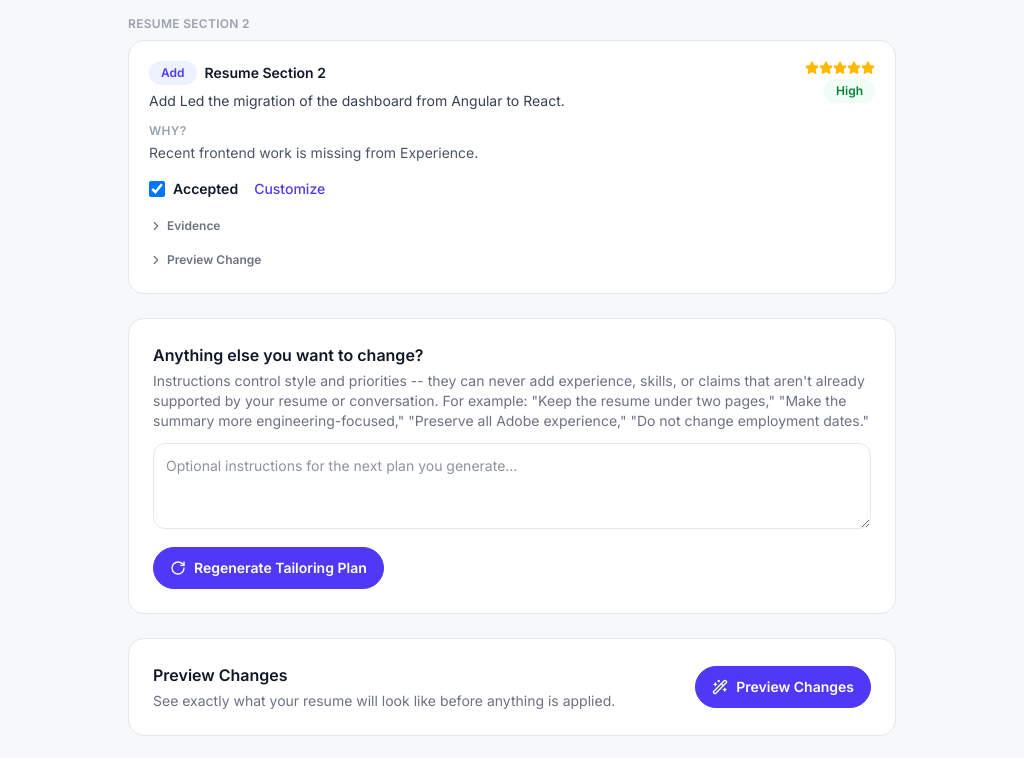
it: TailoredResumePage: preview-first workflow (Preview Changes then Apply Now) › returns to the review stage without losing the selection when going back from preview
The image size is (1024, 758).
(page scrolled)
Click the button "Preview Changes". click: (783, 687)
box: [695,666,871,708]
(page scrolled)
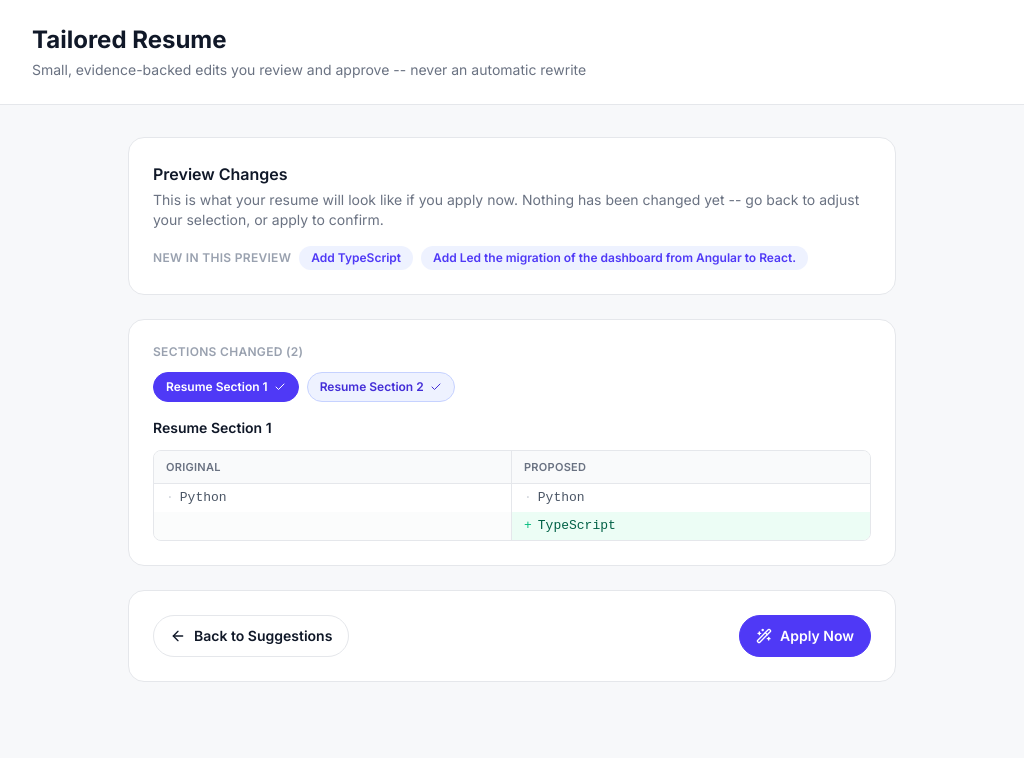
Check: the button "Apply Now" is shown, box [739,615,871,657]
Click the button "Back to Suggestions". click: (251, 636)
box: [153,615,349,657]
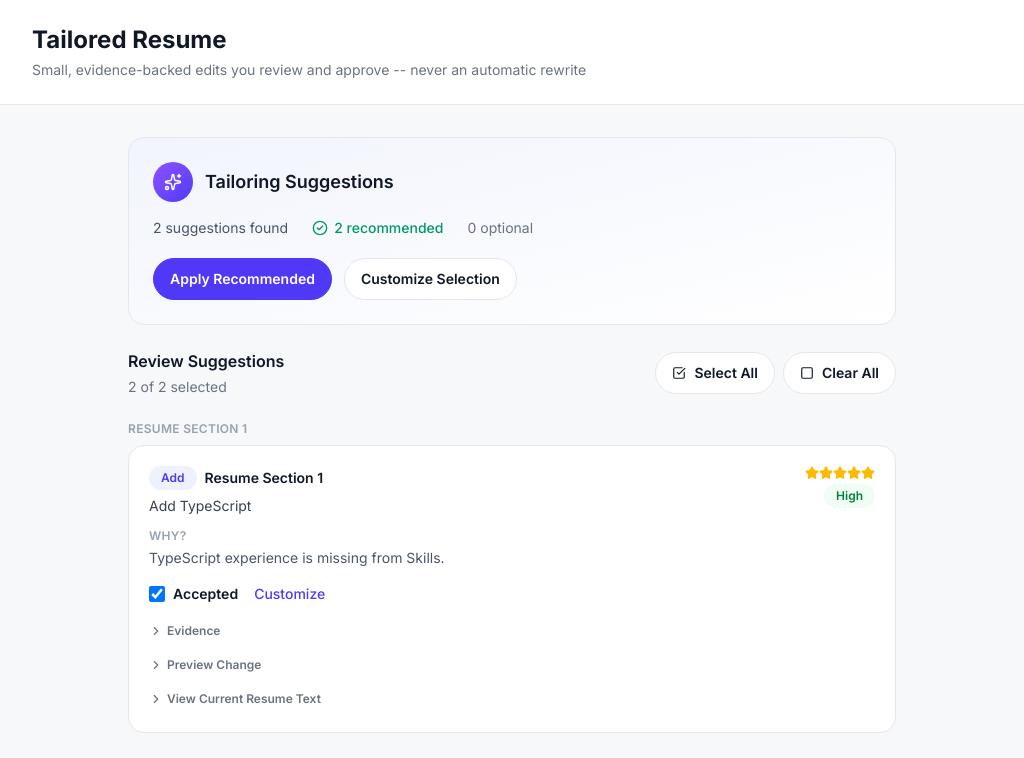
Check: the text "2 of 2 selected" is shown, box [128,378,227,395]
